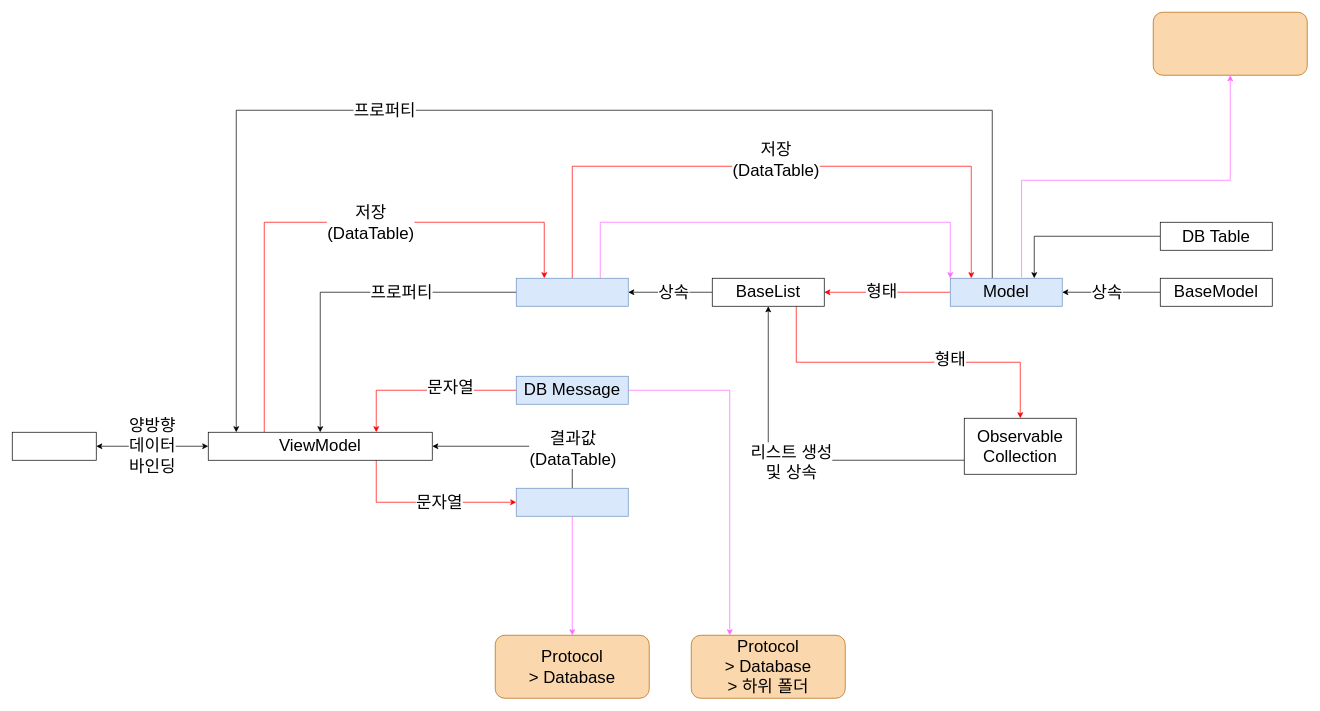
The diagram is 1320 pixels wide and 711 high, and some of its shapes have lost their labels. The box of each missing label's shape, as (x1, y1, x2, y2) in pixels:
DB Connect: (516, 488, 628, 516)
ModelList: (516, 278, 628, 306)
Protocol > Model > 프로젝트 이름: (1153, 12, 1307, 75)
View: (12, 432, 96, 460)
